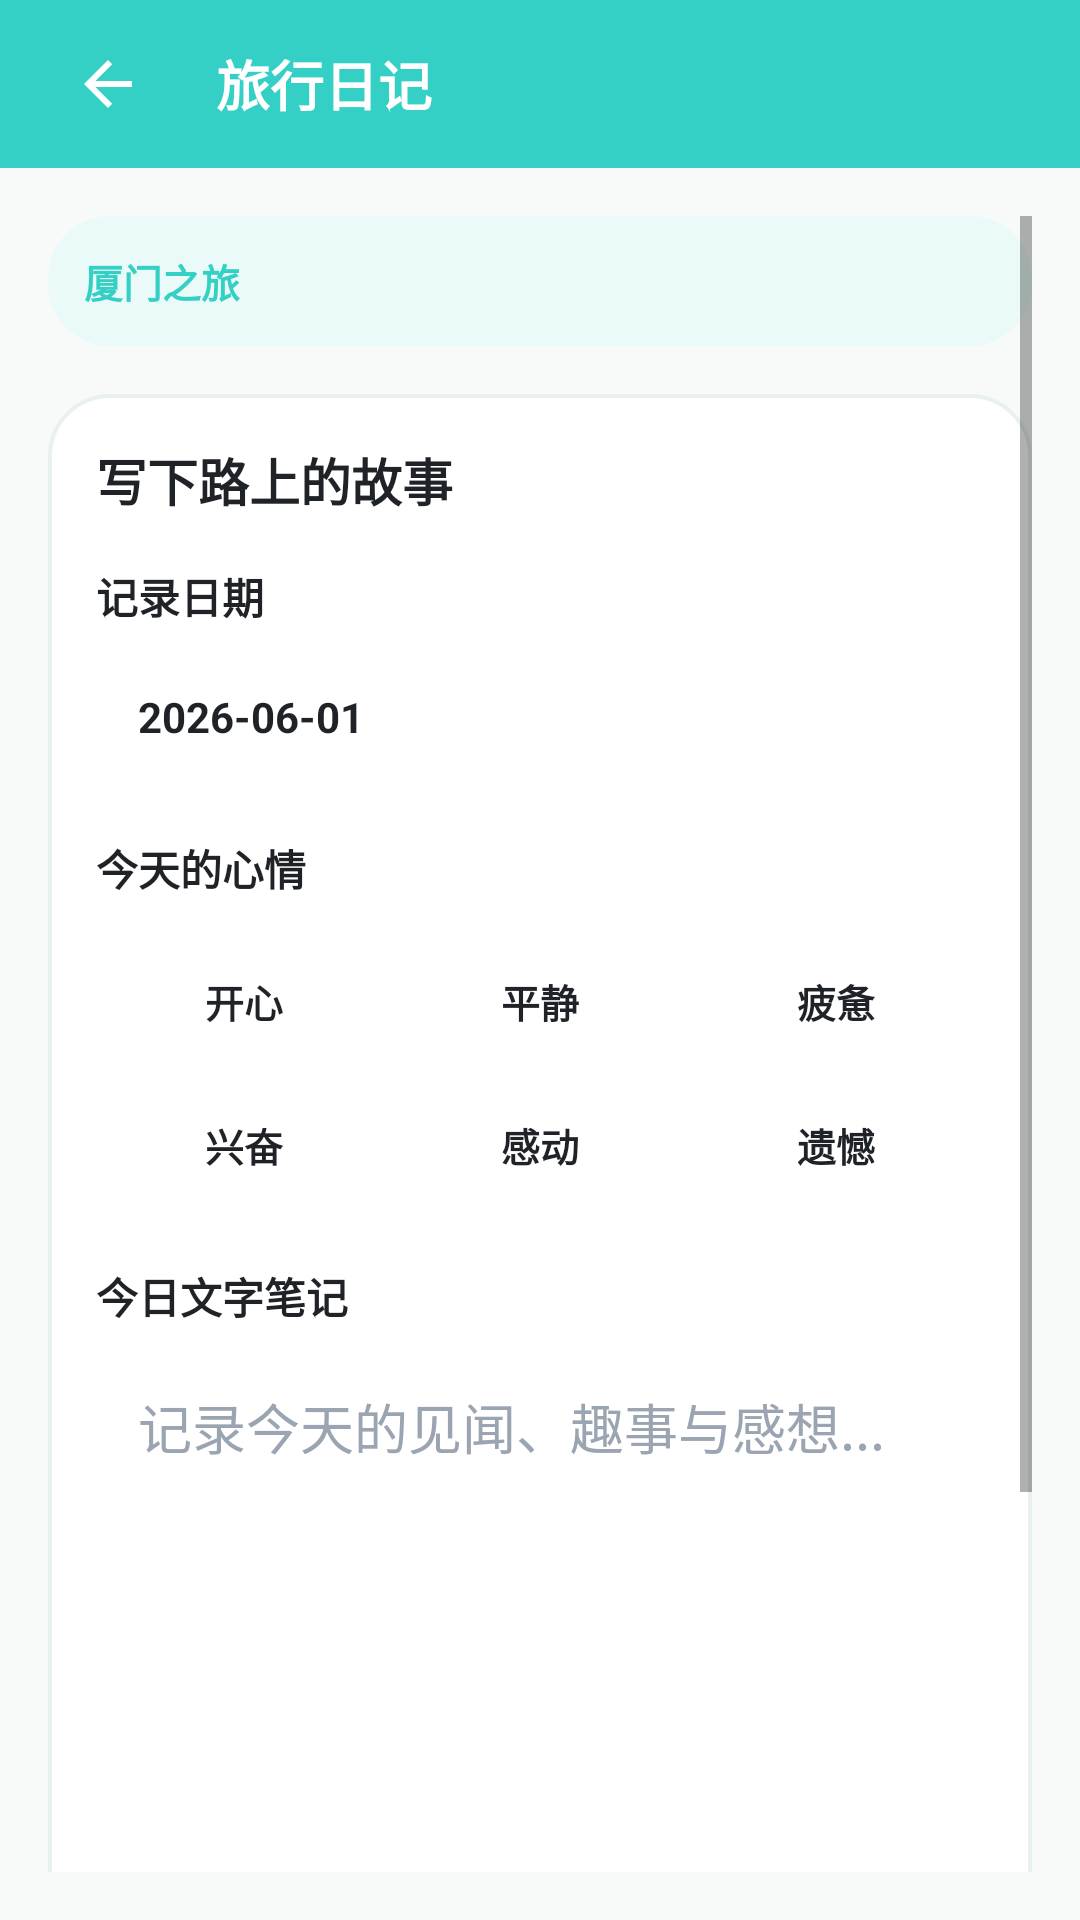

Named icons in this screenshot (1080px x 1920px) and their centers, point (x, y):
返回: point (108, 84)
